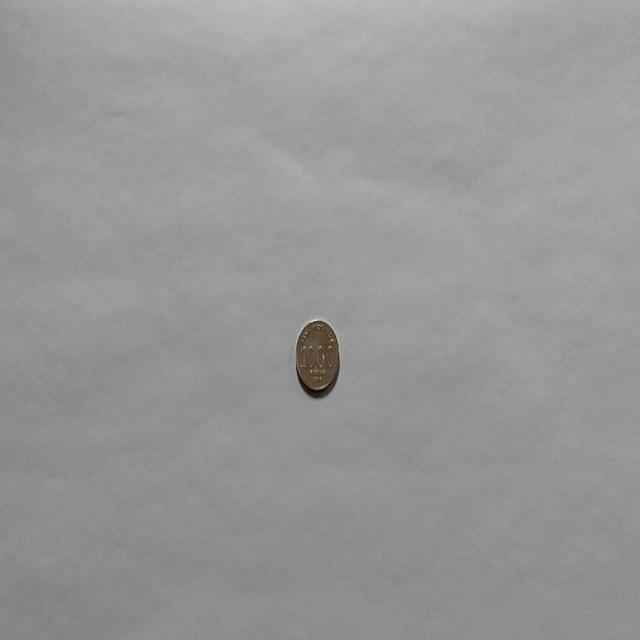seribu rupiah koin: (294, 316, 340, 396)
